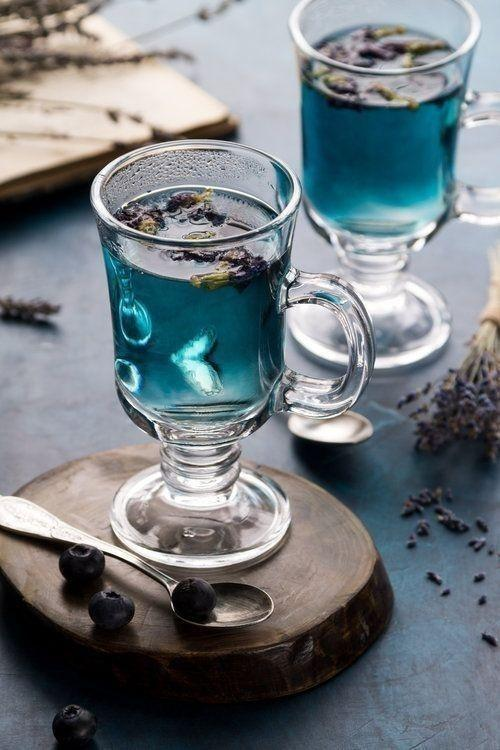glass-mug: (83, 137, 379, 571), (287, 1, 500, 368)
